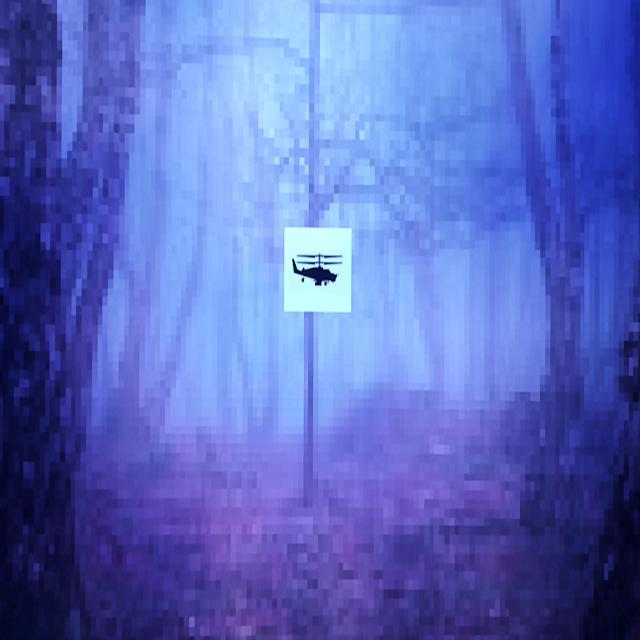Ka-52 Enemy: (292, 255, 341, 285)
